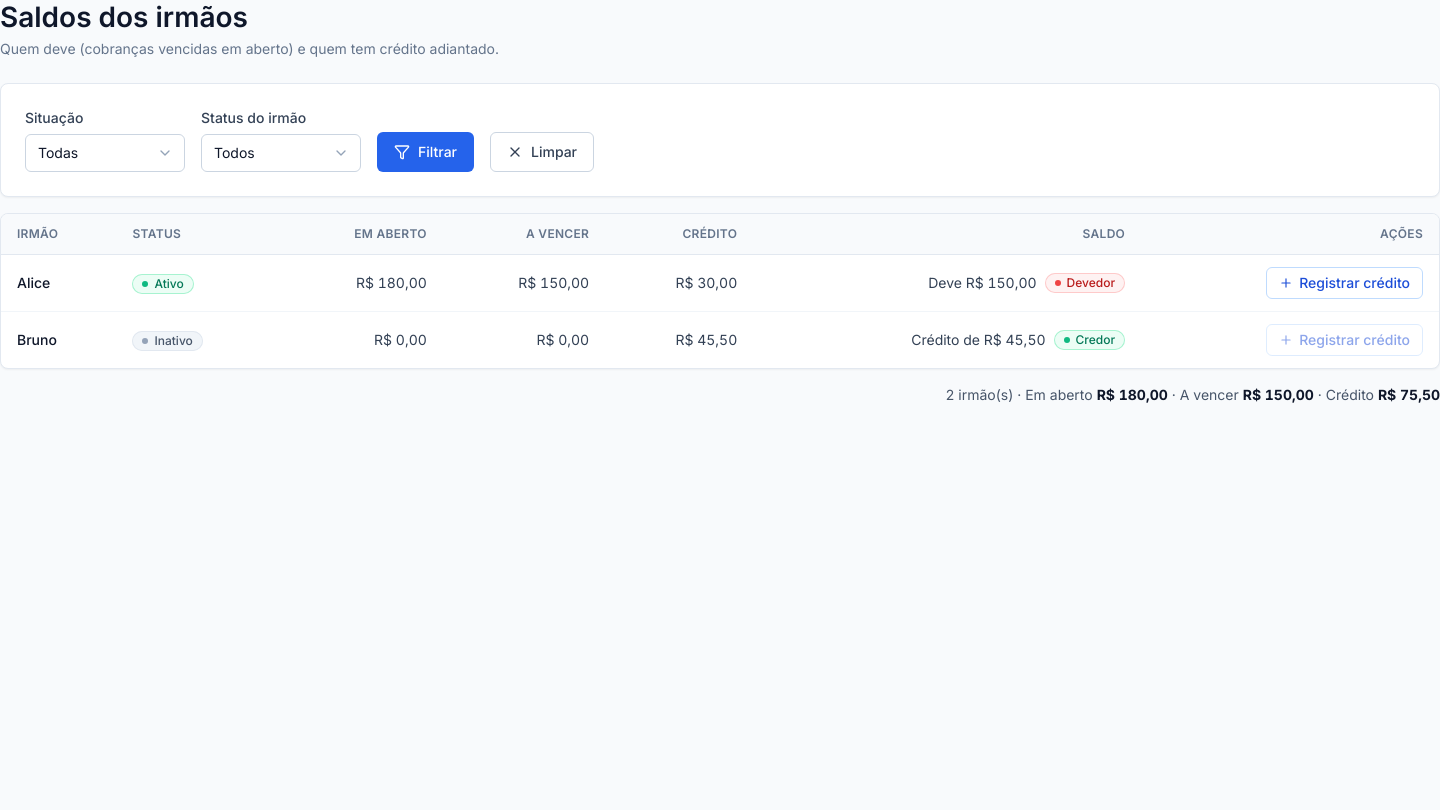
SaldosPage › registrar crédito pela linha › erro do servidor (500) fica no diálogo, que continua aberto, sem recarregar
Check: the link "Alice" is shown, box [17, 274, 50, 291]
Click the button with aria-label "Registrar crédito para Alice": (1345, 283) [1266, 267, 1423, 299]
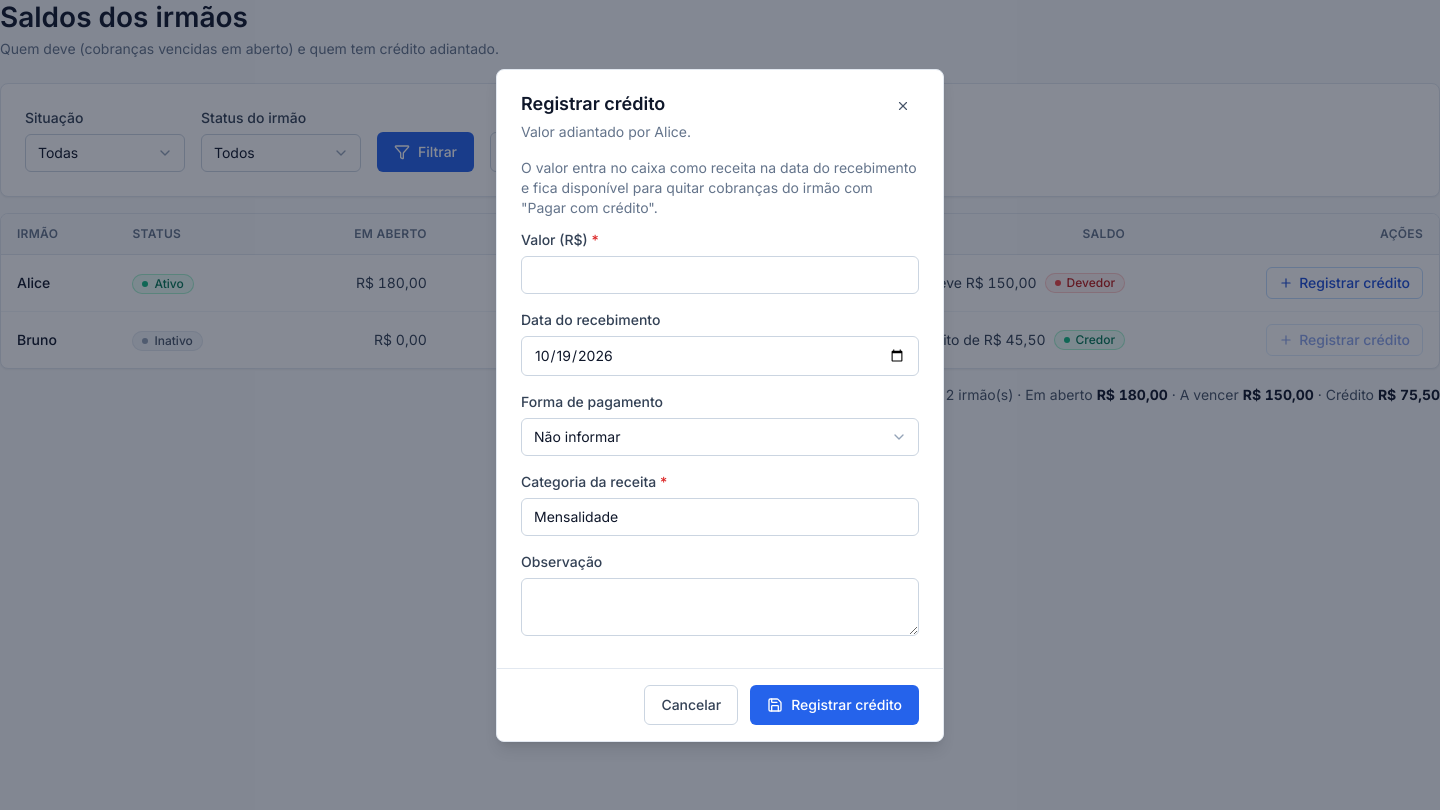
In the number field labelled "Valor (R$) *": (720, 274) [521, 256, 919, 294], type "100"
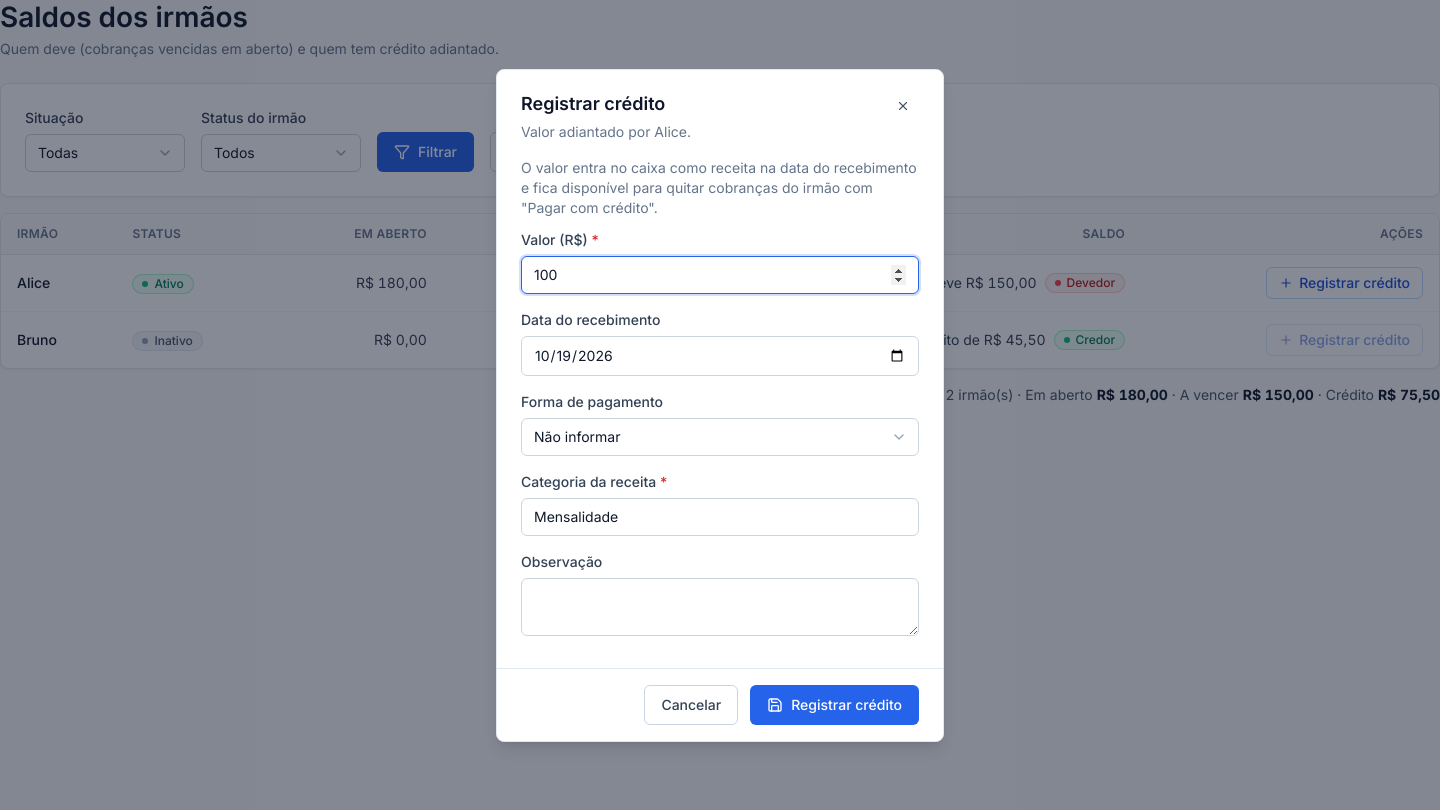
Click the button "Registrar crédito": (835, 704) [750, 684, 919, 724]
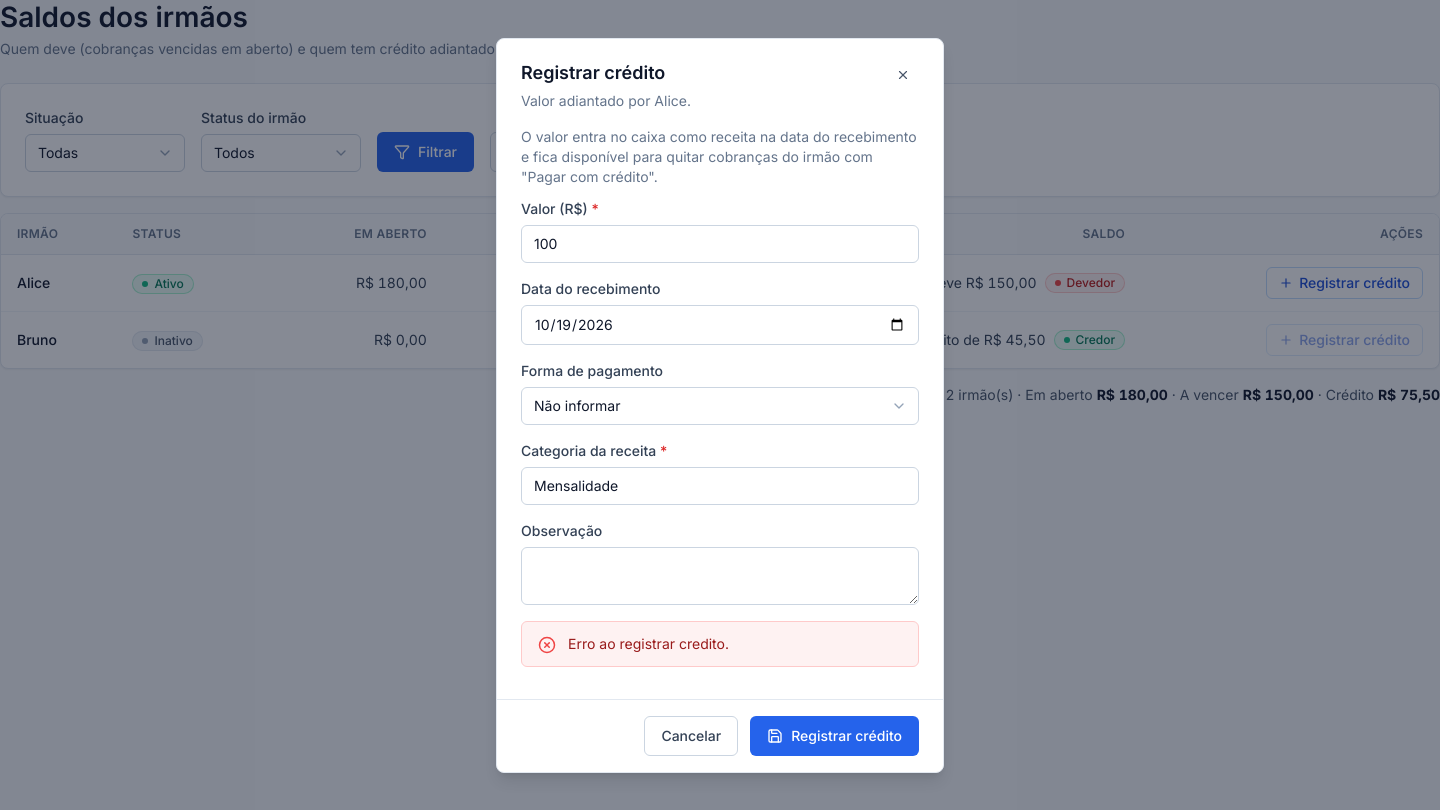
Check: the dialog is shown, box [496, 38, 944, 772]
Check: the text "Erro ao registrar credito." is shown, box [568, 634, 729, 654]
